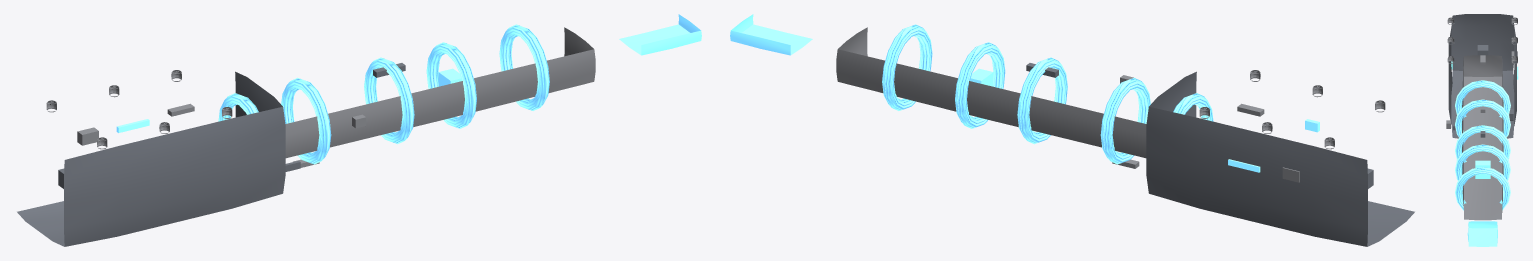
The model's file is weapon_railgun.glb.
The picture shows the model from 3 angles, left to right: view 1: azimuth 30°, elevation 25°; view 2: azimuth 150°, elevation 25°; view 3: azimuth 270°, elevation 25°; orthographic projection. The views are drawn at different scales.
Visible parts, largest first — view 1: Rail_Breech, weapon_railgun_Material_Mechanical_Merged, weapon_railgun_Material_Accent_Merged, Rail_Accent_Slit; view 2: Rail_Breech, weapon_railgun_Material_Mechanical_Merged, weapon_railgun_Material_Accent_Merged, Rail_Accent_Slit; view 3: weapon_railgun_Material_Mechanical_Merged, Rail_Breech, weapon_railgun_Material_Accent_Merged, Rail_Accent_Slit, DET_muzzle_flux, DET_breech_wear, DET_coil_band_a.
Boxes of the visible parts, x1=… form: Rail_Breech: x1=17, y1=71, x2=285, y2=246; weapon_railgun_Material_Mechanical_Merged: x1=46, y1=27, x2=595, y2=158; weapon_railgun_Material_Accent_Merged: x1=218, y1=24, x2=549, y2=164; Rail_Accent_Slit: x1=619, y1=14, x2=701, y2=55; Rail_Breech: x1=1146, y1=71, x2=1414, y2=246; weapon_railgun_Material_Mechanical_Merged: x1=836, y1=27, x2=1385, y2=158; weapon_railgun_Material_Accent_Merged: x1=882, y1=24, x2=1213, y2=164; Rail_Accent_Slit: x1=730, y1=14, x2=812, y2=55; weapon_railgun_Material_Mechanical_Merged: x1=1447, y1=17, x2=1517, y2=220; Rail_Breech: x1=1448, y1=14, x2=1516, y2=138; weapon_railgun_Material_Accent_Merged: x1=1455, y1=80, x2=1510, y2=210; Rail_Accent_Slit: x1=1467, y1=221, x2=1497, y2=246; DET_muzzle_flux: x1=1475, y1=160, x2=1490, y2=178; DET_breech_wear: x1=1477, y1=45, x2=1488, y2=55; DET_coil_band_a: x1=1480, y1=55, x2=1485, y2=64.
Bounding box in the file's own units: 6.3 × 0.97 × 0.9487.
